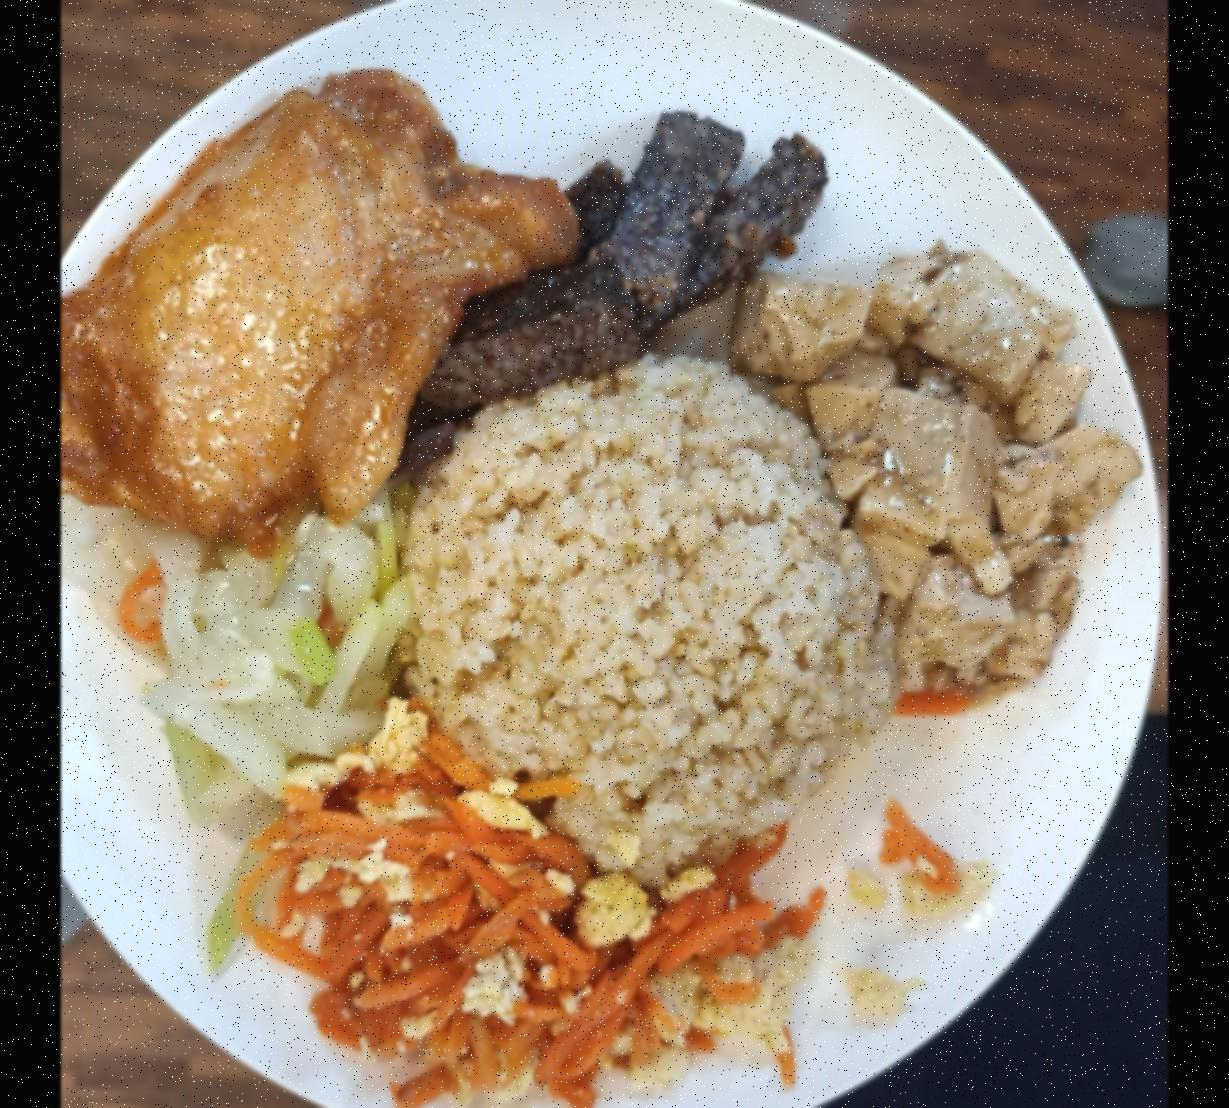brown rice: (423, 376, 867, 835)
grilled chicken leg steak: (66, 61, 480, 542)
plate: (72, 0, 1144, 1108)
side dish: (277, 784, 785, 1098), (835, 258, 1106, 678), (133, 502, 408, 798), (465, 130, 821, 345)
